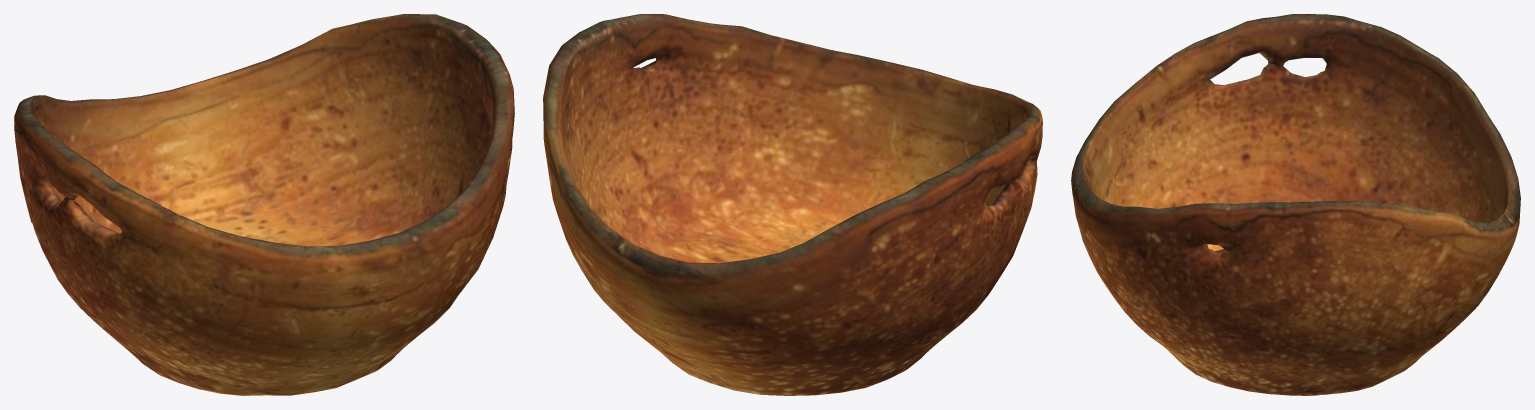
Rendered from bowl.glb.
3 renders of one model, left to right at view 1: azimuth 30°, elevation 25°; view 2: azimuth 150°, elevation 25°; view 3: azimuth 270°, elevation 25°, orthographic. The views are drawn at different scales.
Parts seen in each view (by area): view 1: bowl_0; view 2: bowl_0; view 3: bowl_0.
Boxes of the visible parts, left/top/right/bottom form: bowl_0: left=14, top=14, right=514, bottom=395; bowl_0: left=543, top=14, right=1042, bottom=395; bowl_0: left=1071, top=14, right=1520, bottom=395.
Bounding box in the file's own units: 0.2876 × 0.1608 × 0.274.
Materials: 1 (1 with a texture image).
